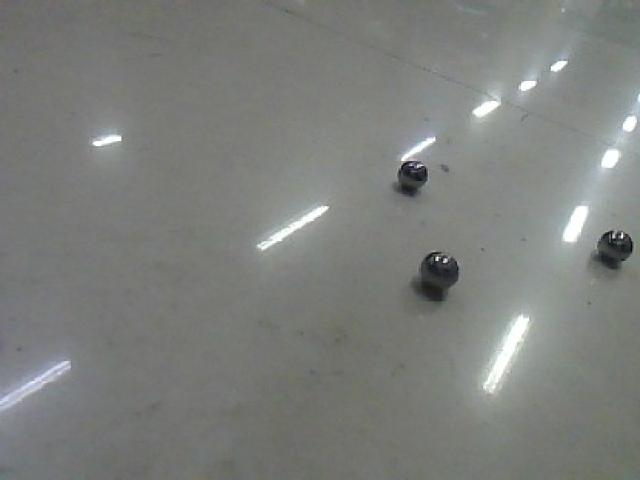steel-ball: (408, 238, 477, 311), (378, 143, 444, 197), (580, 204, 628, 274)
